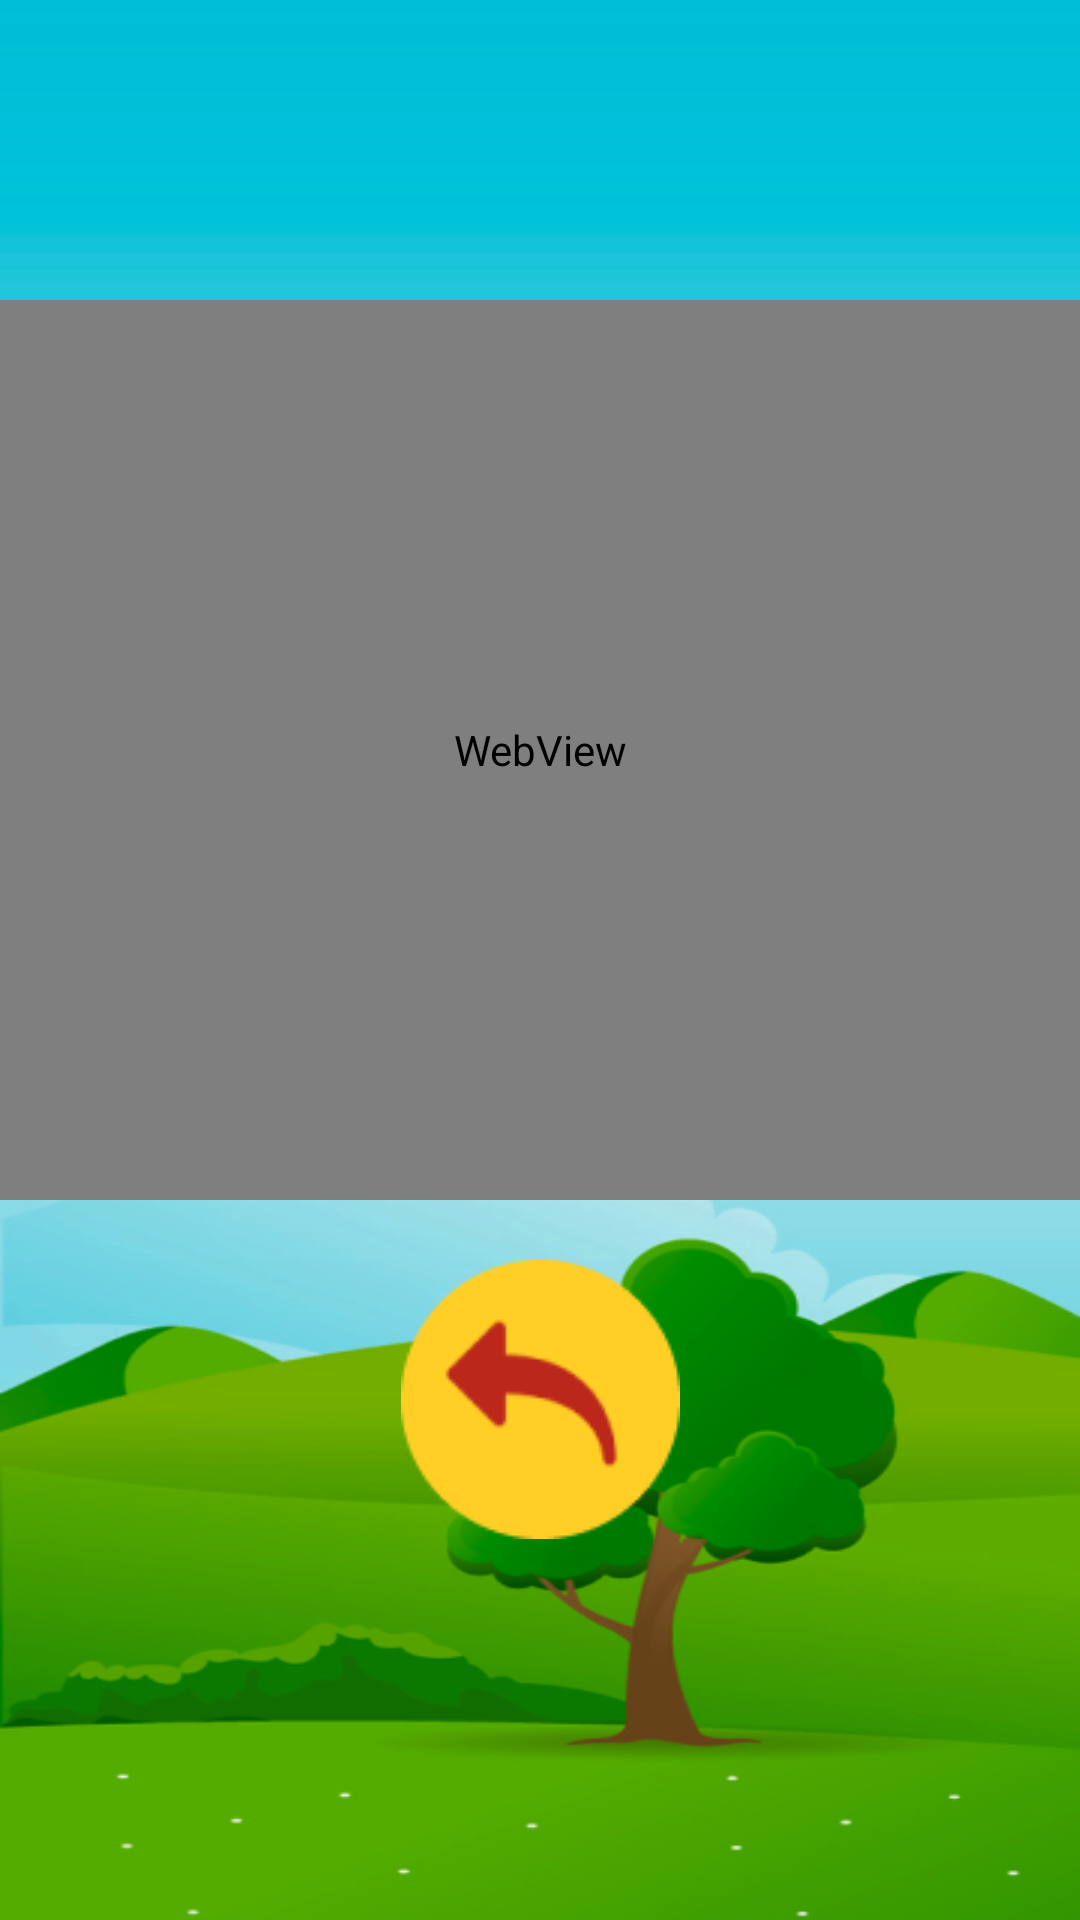

Icon click points for this 1080×1920 phone screenshot, format (x=x, y=y):
back: (x=540, y=1399)
